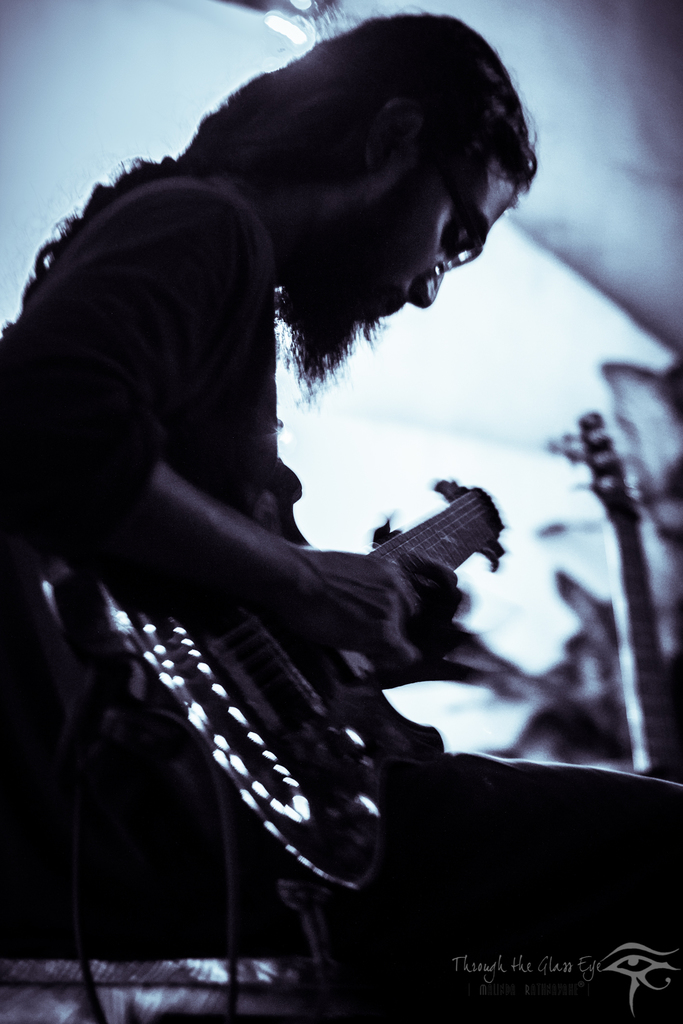face: (361, 128, 500, 324)
